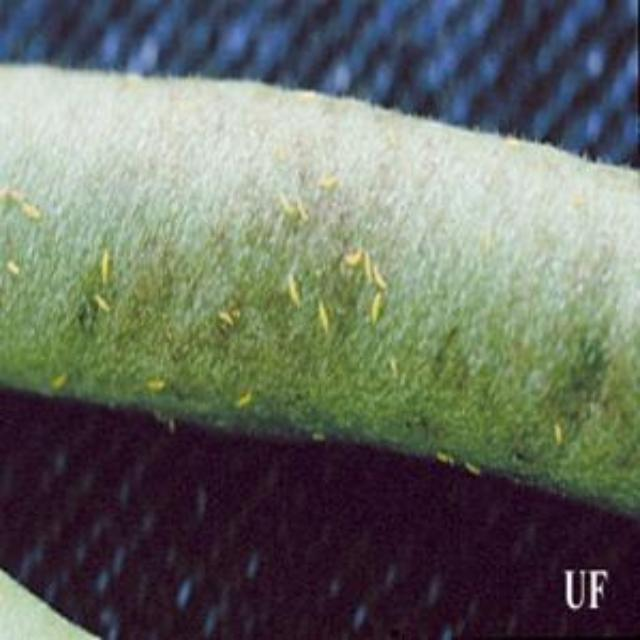melon thrips: (276, 264, 320, 324), (200, 304, 248, 354), (342, 240, 388, 288), (361, 281, 399, 335), (301, 288, 339, 338), (11, 190, 51, 236), (309, 154, 343, 206), (82, 282, 122, 324), (277, 187, 309, 236), (141, 356, 173, 400), (226, 382, 262, 420), (82, 250, 122, 284), (5, 246, 28, 286), (426, 442, 460, 464), (43, 376, 75, 399)
